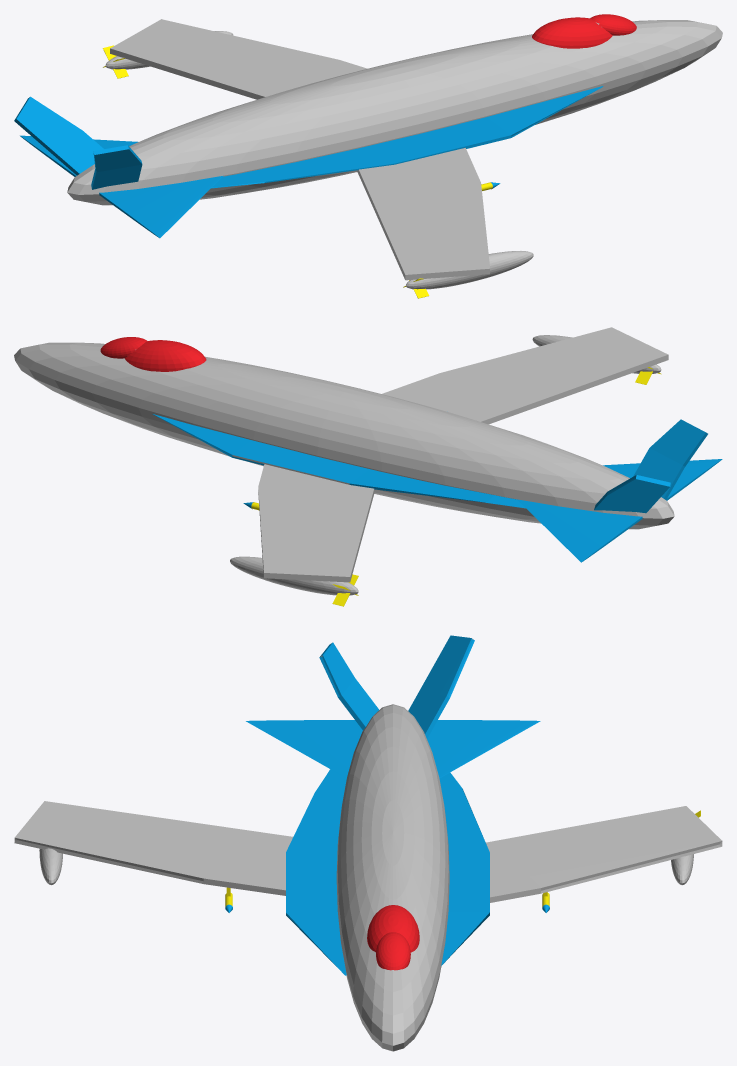
The model's file is enemy.obj.
The picture shows the model from 3 angles, top to bottom: view 1: azimuth 30°, elevation 25°; view 2: azimuth 150°, elevation 25°; view 3: azimuth 270°, elevation 25°; orthographic projection. The views are drawn at different scales.
Visible parts, largest first — view 1: enemy_球; view 2: enemy_球; view 3: enemy_球.
Boxes of the visible parts, <box> form: enemy_球: <box>14,14,722,298</box>; enemy_球: <box>14,327,722,606</box>; enemy_球: <box>14,635,722,1051</box>.
Bounding box in the file's own units: 14.58 × 2.3 × 12.53.
Materials: 4 (4 with a texture image).
